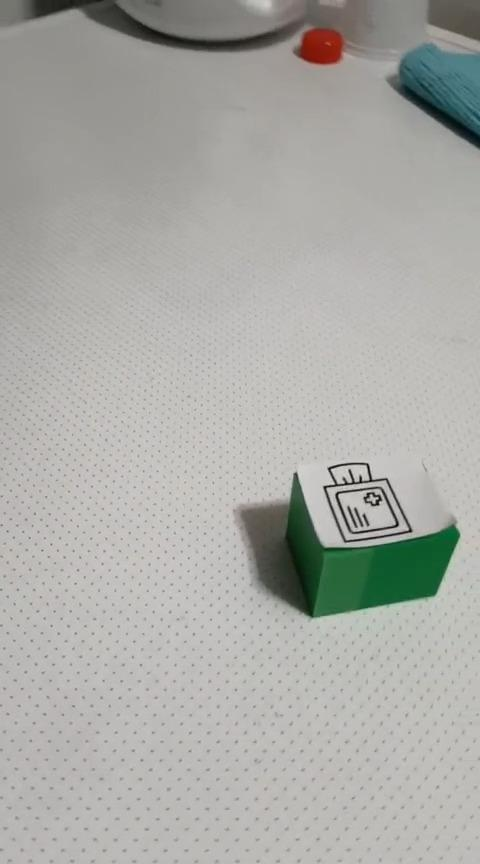Gauze: (284, 450, 460, 617)
